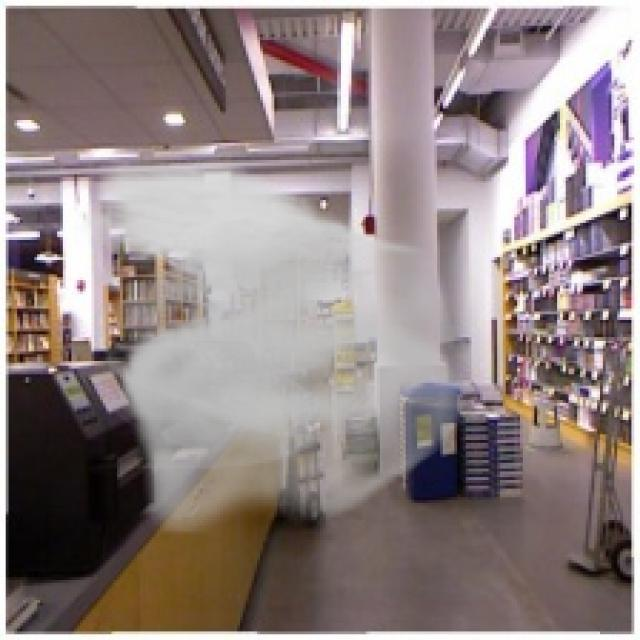Smoke: (74, 155, 477, 534)
